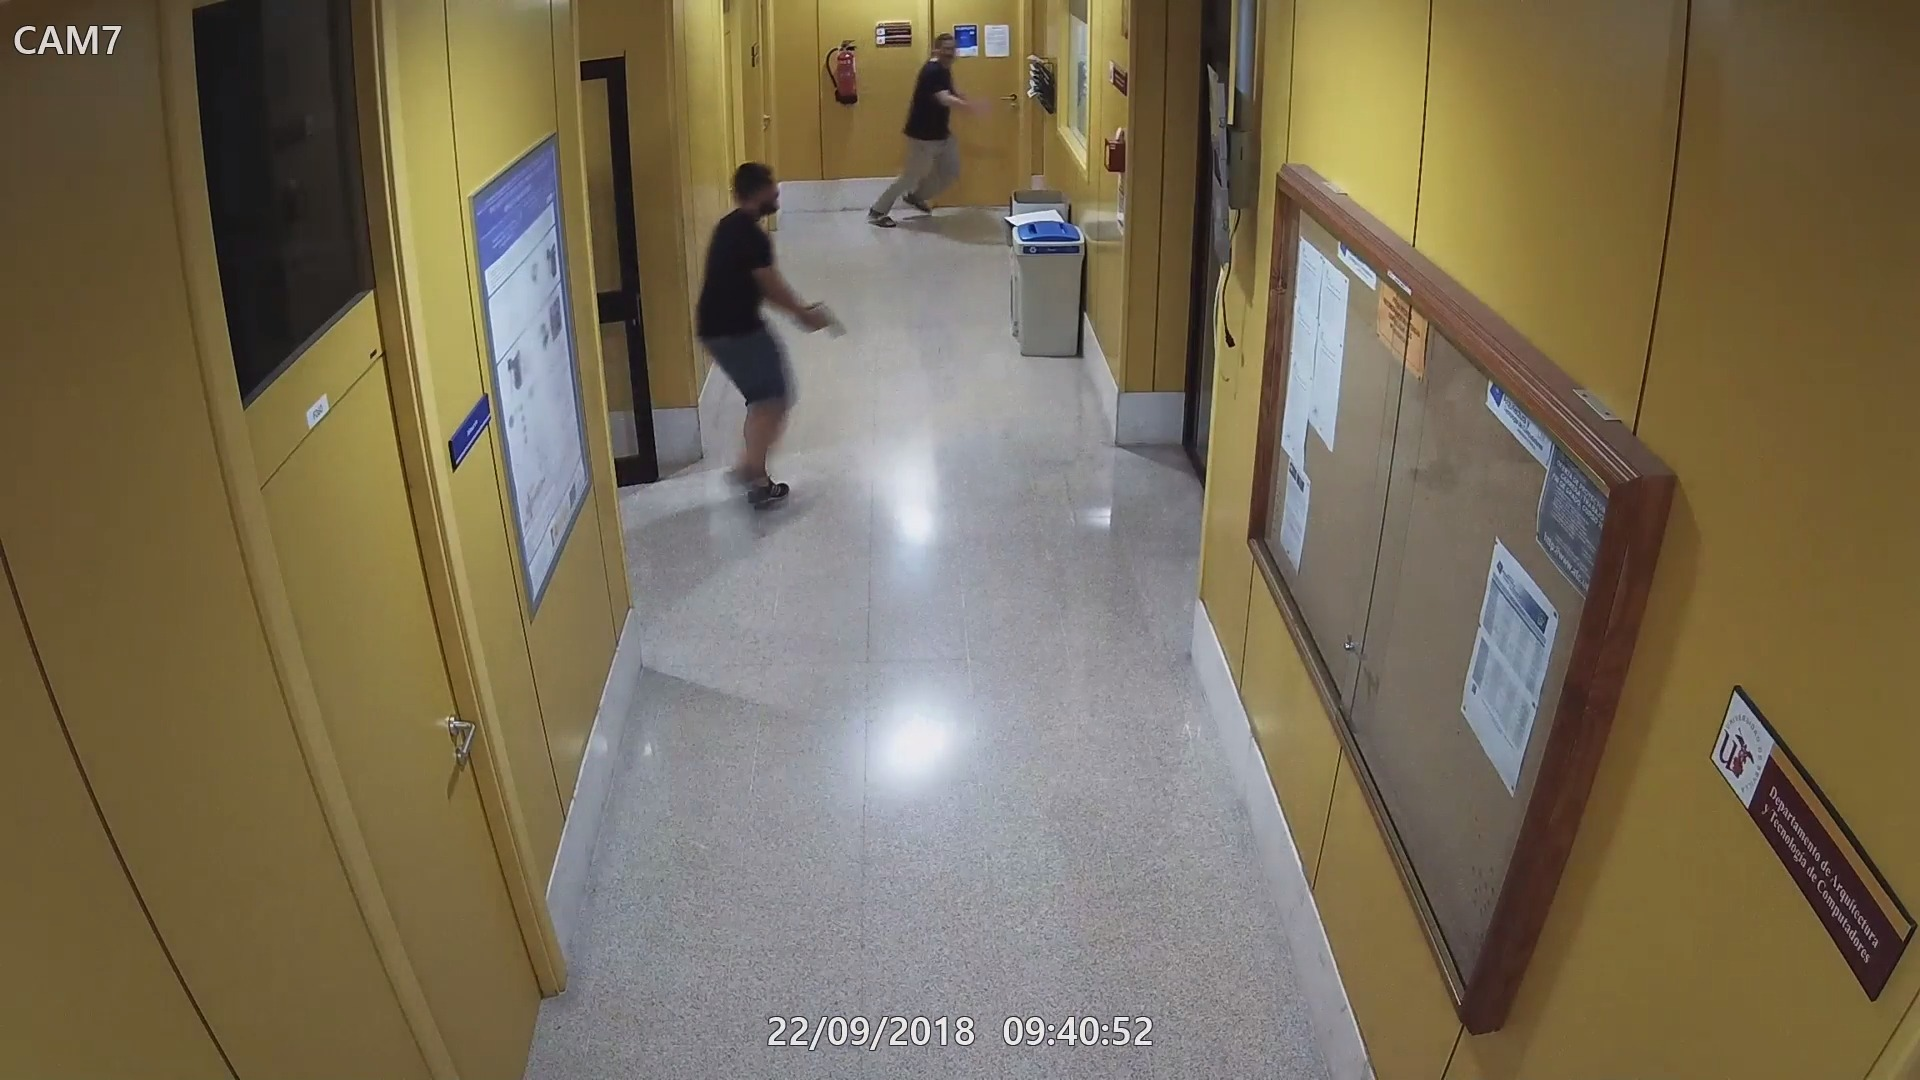Handgun: (798, 301, 851, 342)
